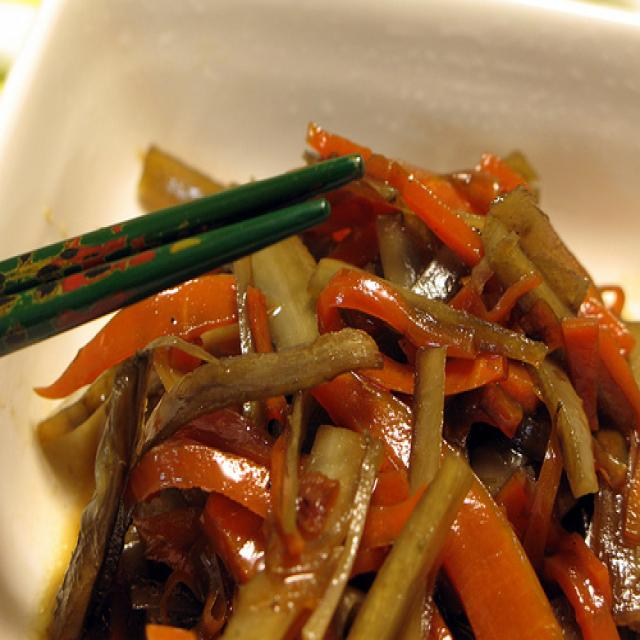蔬菜料理: (13, 42, 621, 640)
